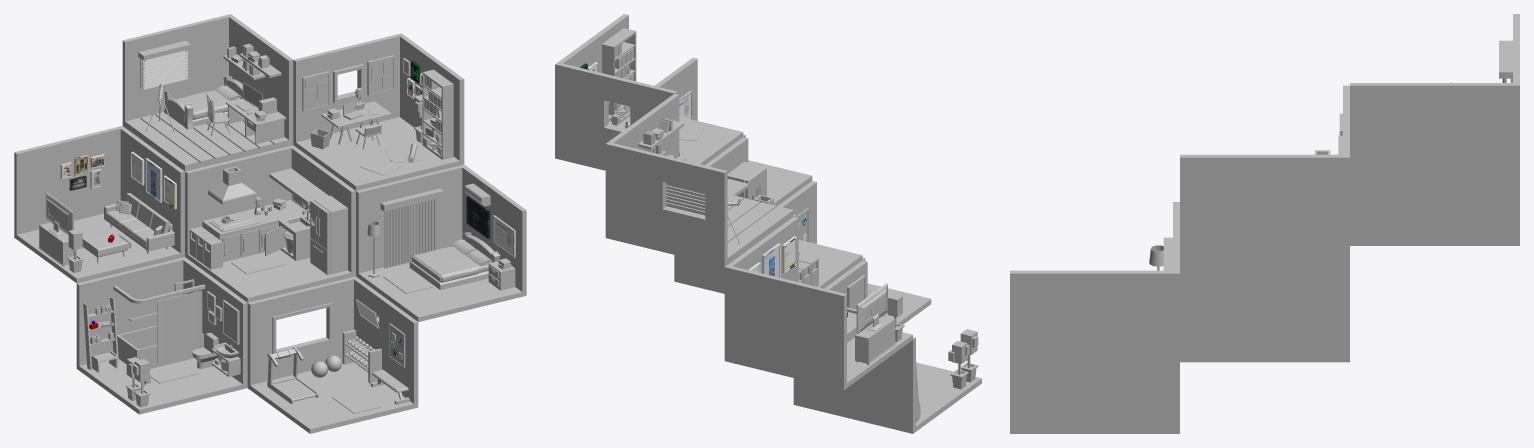
File: help.gltf
3 views of the same model, side by side, from view 1: azimuth 30°, elevation 25°; view 2: azimuth 150°, elevation 25°; view 3: azimuth 270°, elevation 25° (orthographic). The views are drawn at different scales.
Visible parts, largest first — view 1: Walls1, Walls, Walls2_Colors_0.001, Walls_Colors_0.003, Walls_Colors_0.002, Walls_Colors_0.001, Walls2, Curtain, Fridge, Counter_Colors_0, Bed, BookShelf (+34 smaller); view 2: Walls, Walls2, Walls2_Colors_0.001, Walls_Colors_0.003, Walls_Colors_0.001, Walls_Colors_0.002, Walls1, BookShelf, Dresser, TV, Wood_Plank7, Fridge (+5 smaller); view 3: Walls2_Colors_0.001, Walls_Colors_0.002, Walls2, Walls_Colors_0.001, Walls_Colors_0.003, Walls1, Walls, Top_Colors_0.001.
Part boxes in pixels (<box>): Walls1: <box>247,276,418,433</box>; Walls: <box>14,126,184,283</box>; Walls2_Colors_0.001: <box>293,33,464,190</box>; Walls_Colors_0.003: <box>76,257,247,414</box>; Walls_Colors_0.002: <box>356,164,526,321</box>; Walls_Colors_0.001: <box>185,145,355,302</box>; Walls2: <box>122,14,293,171</box>; Curtain: <box>157,290,202,363</box>; Fridge: <box>310,195,347,275</box>; Counter_Colors_0: <box>202,199,310,262</box>; Bed: <box>164,75,242,129</box>; BookShelf: <box>422,69,453,159</box>; Walls: <box>724,217,912,390</box>; Walls2: <box>605,93,793,266</box>; Walls2_Colors_0.001: <box>555,14,743,170</box>; Walls_Colors_0.003: <box>793,260,981,433</box>; Walls_Colors_0.001: <box>674,137,862,293</box>; Walls_Colors_0.002: <box>654,57,812,206</box>; Walls1: <box>777,181,931,324</box>; BookShelf: <box>602,28,636,123</box>; Dresser: <box>855,316,895,364</box>; TV: <box>856,283,887,333</box>; Wood_Plank7: <box>727,206,793,259</box>; Fridge: <box>727,161,766,199</box>; Walls2_Colors_0.001: <box>1180,85,1349,273</box>; Walls_Colors_0.002: <box>1010,202,1179,389</box>; Walls2: <box>1350,14,1519,201</box>; Walls_Colors_0.001: <box>1180,273,1349,317</box>; Walls_Colors_0.003: <box>1180,318,1349,362</box>; Walls1: <box>1010,389,1179,433</box>; Walls: <box>1350,202,1519,245</box>; Top_Colors_0.001: <box>1499,40,1512,78</box>.
Bounding box in the file's own units: 10.95 × 8.25 × 10.95.
